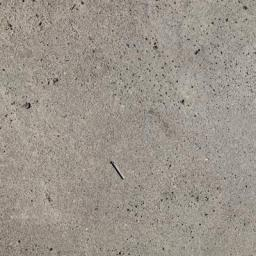FOD: (109, 159, 129, 182)
